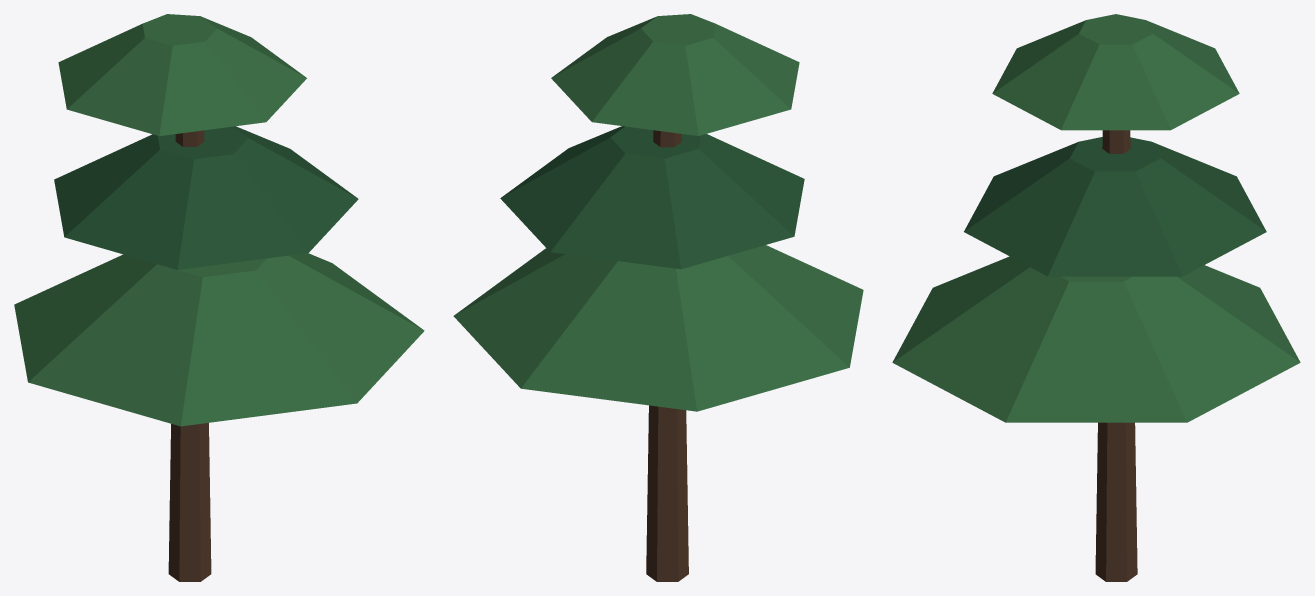
The model's file is Pine1.fbx.
3 renders of one model, left to right at view 1: azimuth 30°, elevation 25°; view 2: azimuth 150°, elevation 25°; view 3: azimuth 270°, elevation 25°, orthographic.
Visible parts, largest first — view 1: Pine1_pine, Pine1_pine_dk, Pine1_bark; view 2: Pine1_pine, Pine1_pine_dk, Pine1_bark; view 3: Pine1_pine, Pine1_pine_dk, Pine1_bark.
Boxes of the visible parts, x1,y1,x2,y2 form: Pine1_pine: (14, 14, 424, 426); Pine1_pine_dk: (54, 126, 358, 269); Pine1_bark: (168, 130, 211, 581); Pine1_pine: (453, 14, 863, 411); Pine1_pine_dk: (500, 126, 804, 269); Pine1_bark: (646, 130, 688, 581); Pine1_pine: (892, 14, 1300, 422); Pine1_pine_dk: (964, 137, 1266, 276); Pine1_bark: (1095, 130, 1137, 581).
Size of the model in its own units: 10.41 by 15.53 by 10.67.
